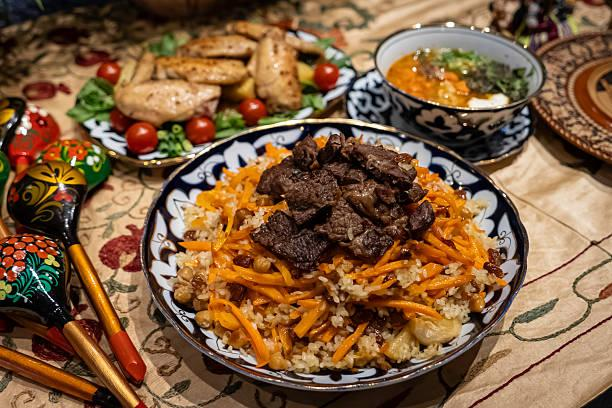Braised Crucian Carp: (142, 119, 524, 389), (74, 26, 347, 170), (345, 19, 540, 171)
